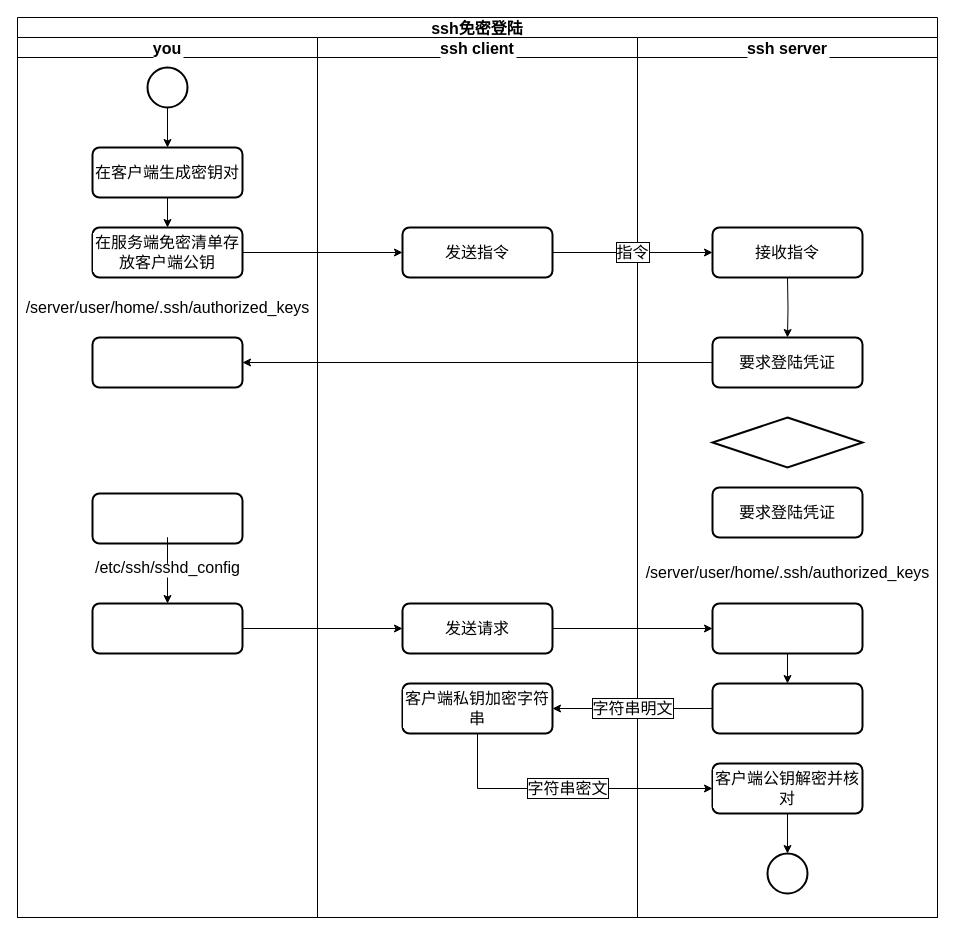
The diagram is 955 pixels wide and 935 high, and some of its shapes have lost their labels. Here are the shapes that lost their labels. From the top down, the centre of each, then its label:
pixel 167 362: 输入凭证
pixel 787 442: 核对凭证
pixel 167 518: 修改SSH服务端配置并重启服务
pixel 167 628: 请求连接 $ ssh user@host
pixel 787 628: 接收请求
pixel 787 708: 发送随机字符串
